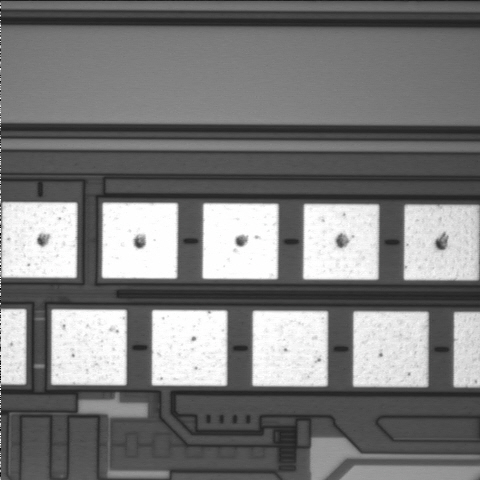pad: (102, 203, 178, 279), (202, 203, 278, 279), (303, 204, 379, 280), (51, 309, 127, 385), (2, 202, 77, 278), (152, 310, 227, 386), (252, 311, 328, 386), (353, 311, 428, 387)
